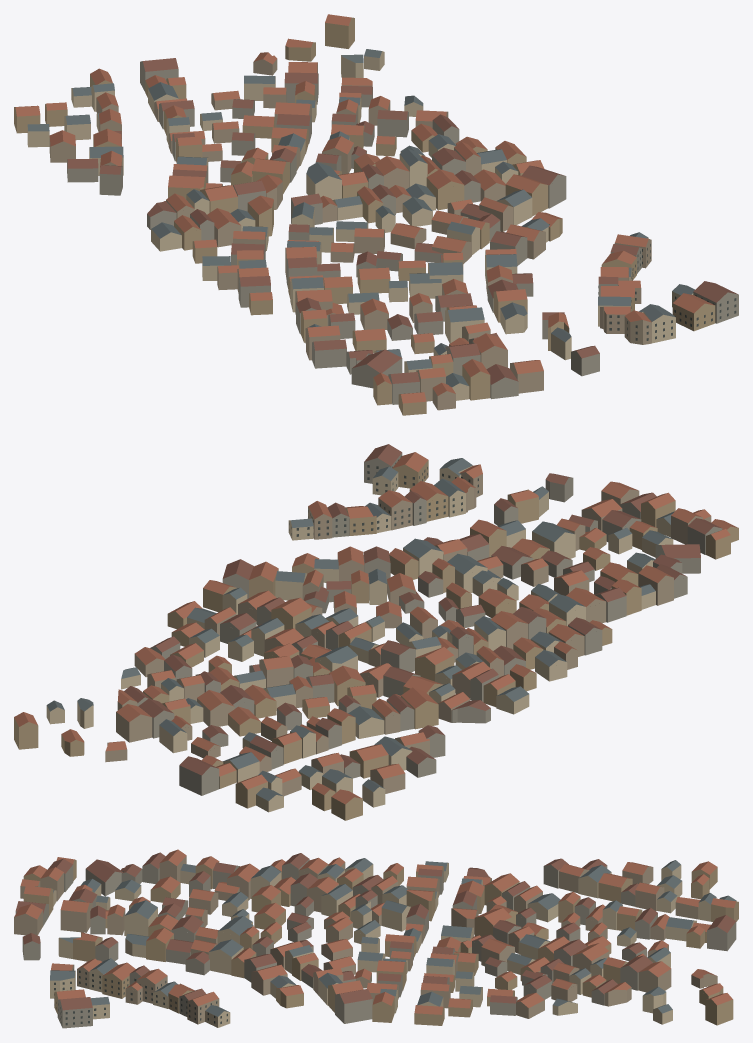
The picture shows the model from 3 angles, top to bottom: view 1: azimuth 30°, elevation 25°; view 2: azimuth 150°, elevation 25°; view 3: azimuth 270°, elevation 25°; orthographic projection. The views are drawn at different scales.
Parts seen in each view (by area): view 1: C_1_2; view 2: C_1_2; view 3: C_1_2.
Boxes of the visible parts, left/top/right/bottom form: C_1_2: left=14, top=14, right=738, bottom=415; C_1_2: left=14, top=444, right=738, bottom=820; C_1_2: left=14, top=849, right=738, bottom=1028.
Size of the model in its own units: 191 by 14.5 by 372.
